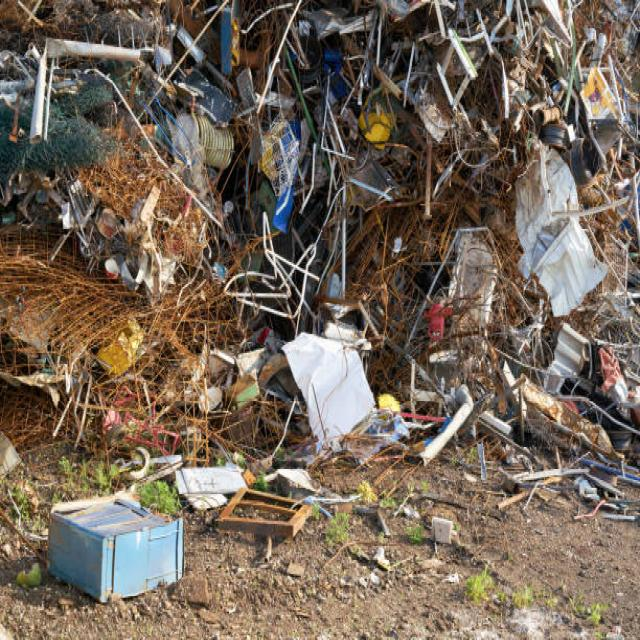plastic: (189, 39, 613, 457)
